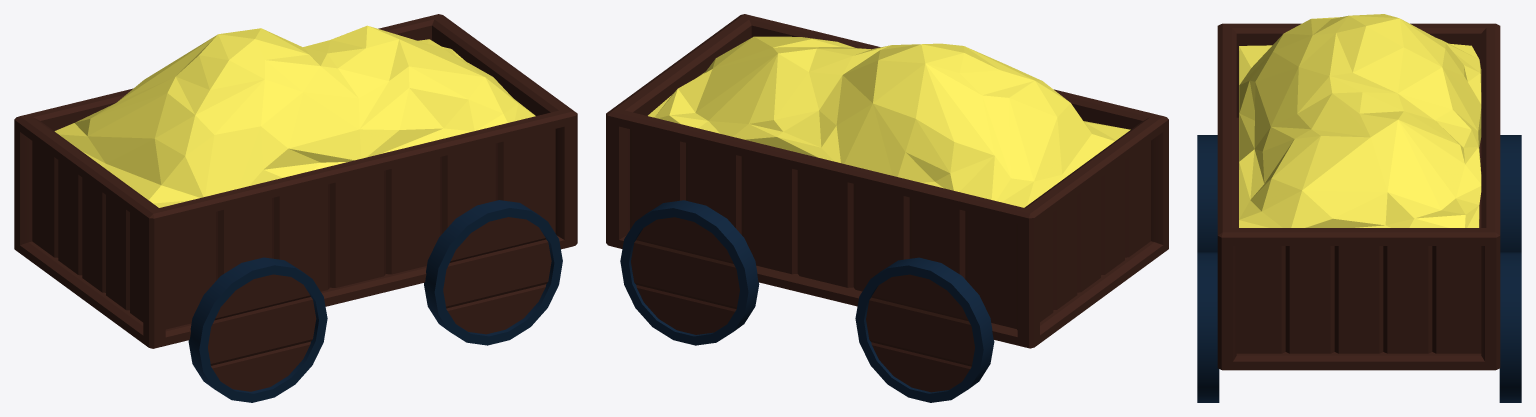
File: wagon.FBX
3 renders of one model, left to right at view 1: azimuth 30°, elevation 25°; view 2: azimuth 150°, elevation 25°; view 3: azimuth 270°, elevation 25°, orthographic. The views are drawn at different scales.
Parts seen in each view (by area): view 1: wagon; view 2: wagon; view 3: wagon.
Part boxes in pixels (box(x1,y1,x2,y2)): wagon: box(14, 14, 577, 402); wagon: box(606, 14, 1168, 402); wagon: box(1197, 14, 1521, 402).
Bounding box in the file's own units: 536 × 338 × 344.
